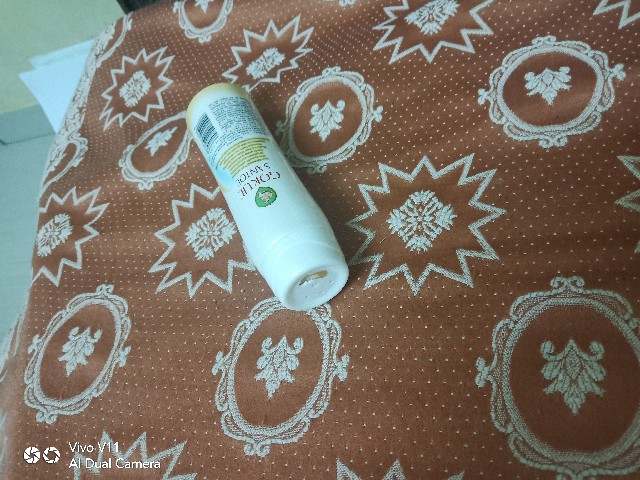gokulsantol big: (170, 67, 372, 320)
